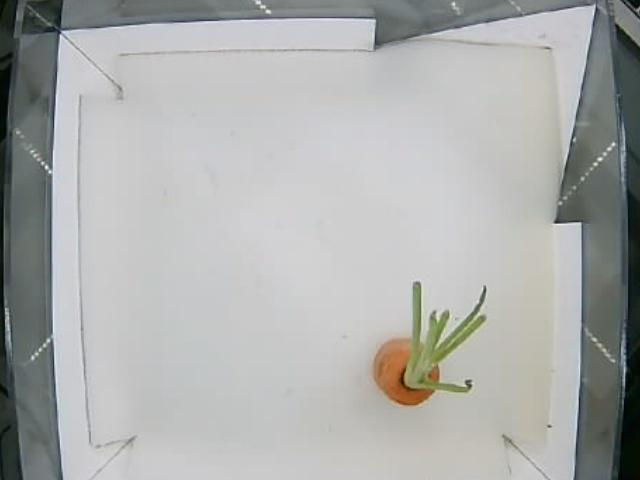Carrot: (372, 285, 490, 411)
